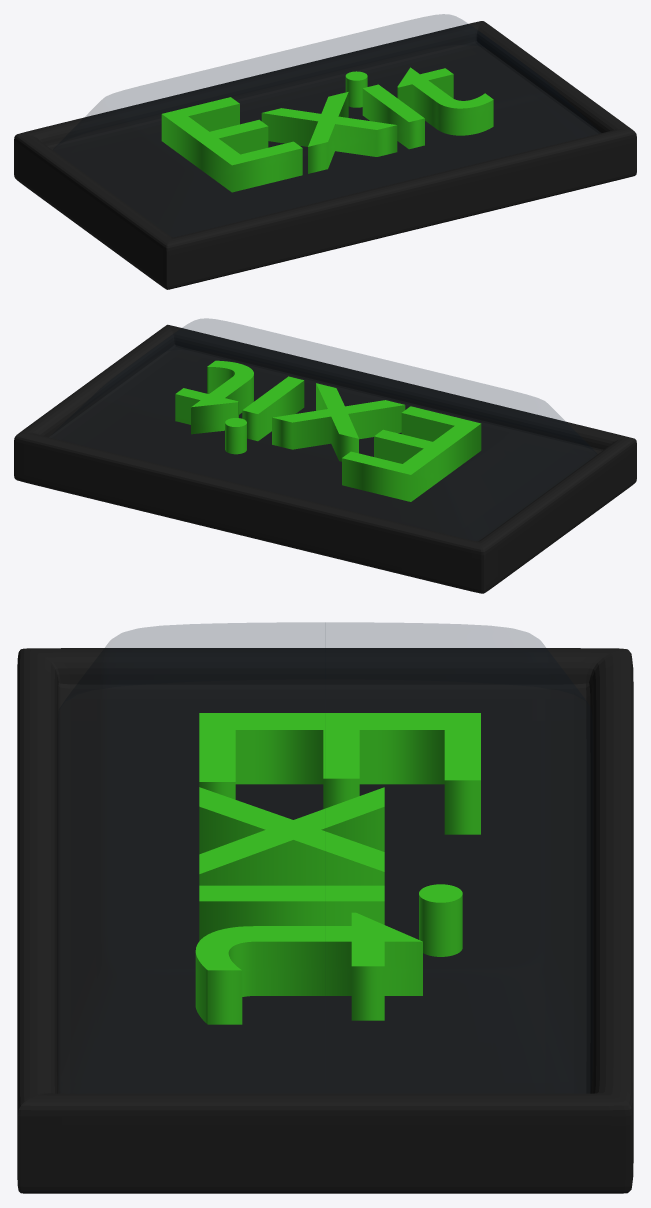
File: exit.fbx
3 renders of one model, top to bottom at view 1: azimuth 30°, elevation 25°; view 2: azimuth 150°, elevation 25°; view 3: azimuth 270°, elevation 25°, orthographic. The views are drawn at different scales.
Parts seen in each view (by area): view 1: Cube, Text, Cube.001; view 2: Cube, Text, Cube.001; view 3: Cube, Text, Cube.001.
Boxes of the visible parts, x1=… form: Cube: x1=14, y1=21, x2=636, y2=289; Text: x1=161, y1=67, x2=493, y2=192; Cube.001: x1=53, y1=14, x2=590, y2=149; Cube: x1=14, y1=324, x2=636, y2=593; Text: x1=175, y1=360, x2=481, y2=501; Cube.001: x1=59, y1=318, x2=596, y2=453; Cube: x1=17, y1=648, x2=633, y2=1193; Text: x1=195, y1=713, x2=480, y2=1024; Cube.001: x1=59, y1=622, x2=588, y2=1088.
Size of the model in its own units: 353 by 61.88 by 200.
